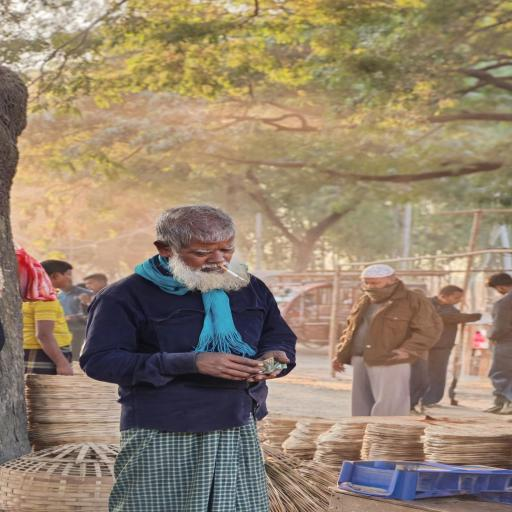dataset-deteksi-merokok: (182, 231, 251, 290)
